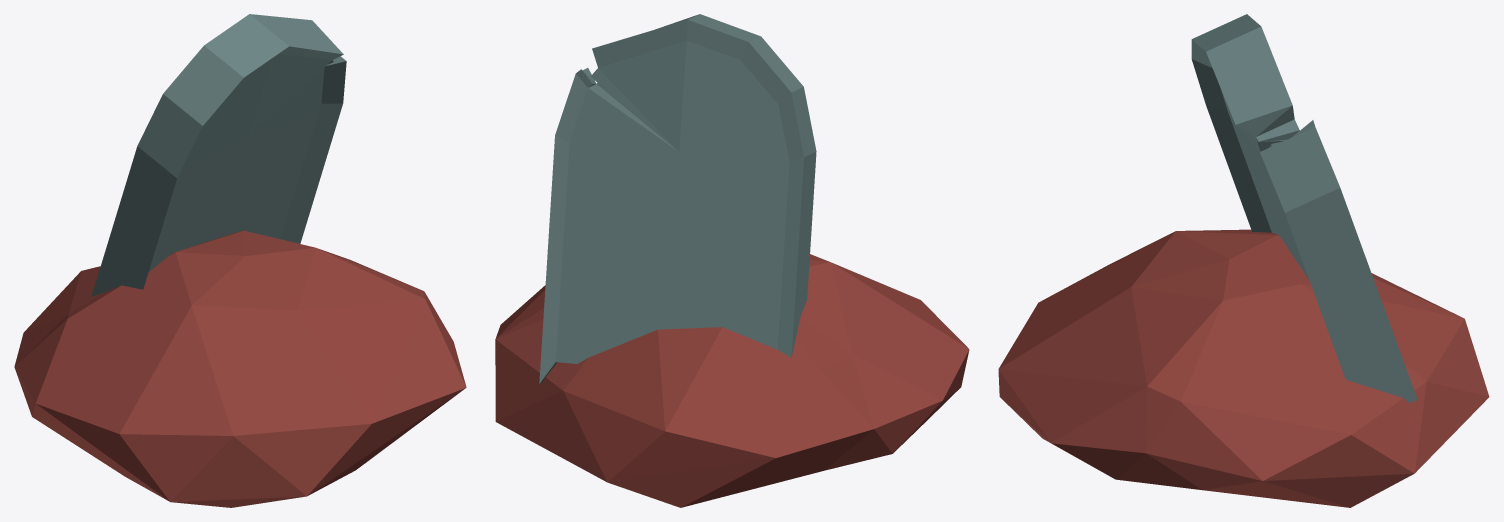
The model's file is C_Lapide5.fbx.
3 renders of one model, left to right at view 1: azimuth 30°, elevation 25°; view 2: azimuth 150°, elevation 25°; view 3: azimuth 270°, elevation 25°, orthographic. The views are drawn at different scales.
Visible parts, largest first — view 1: Cylinder; view 2: Cylinder; view 3: Cylinder.
Boxes of the visible parts, x1,y1,x2,y2 form: Cylinder: (14,14,466,507); Cylinder: (495,14,969,507); Cylinder: (998,14,1489,507).
Size of the model in its own units: 436 by 409 by 423.
